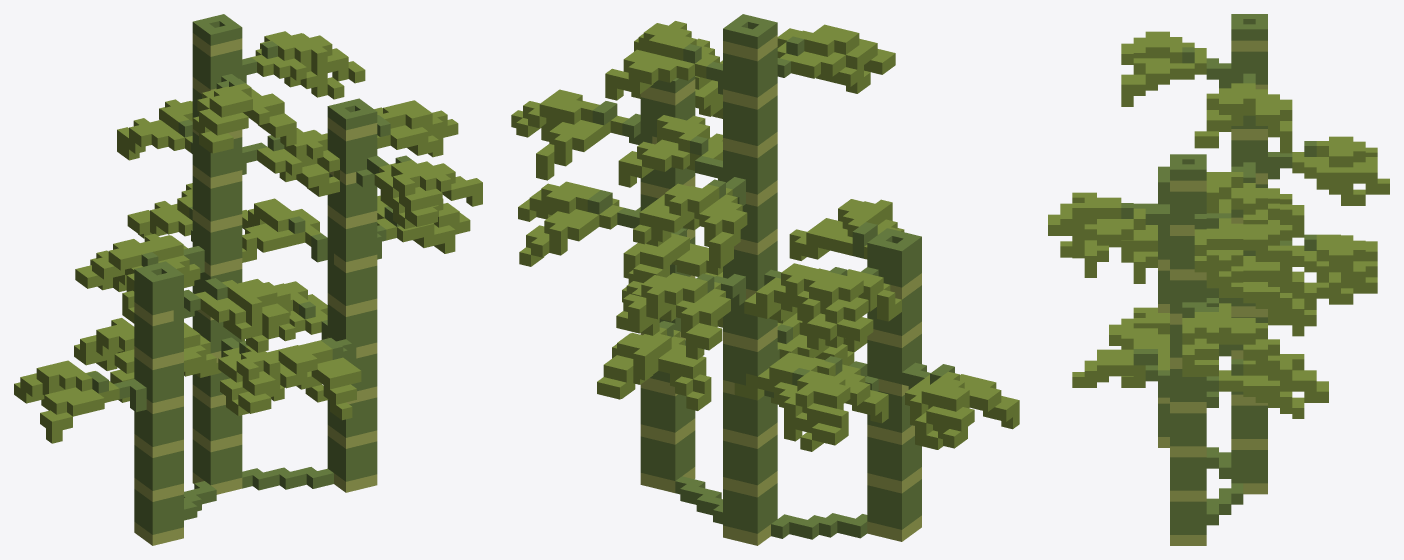
3 renders of one model, left to right at view 1: azimuth 30°, elevation 25°; view 2: azimuth 150°, elevation 25°; view 3: azimuth 270°, elevation 25°, orthographic. The views are drawn at different scales.
Parts seen in each view (by area): view 1: 竹竿竹节与叶簇母版; view 2: 竹竿竹节与叶簇母版; view 3: 竹竿竹节与叶簇母版.
Boxes of the visible parts, x1,y1,x2,y2 form: 竹竿竹节与叶簇母版: (14,14,482,545); 竹竿竹节与叶簇母版: (511,14,1019,545); 竹竿竹节与叶簇母版: (1048,14,1389,545).
Size of the model in its own units: 8.2 by 8.4 by 5.6.
3 materials, 3 textured.
